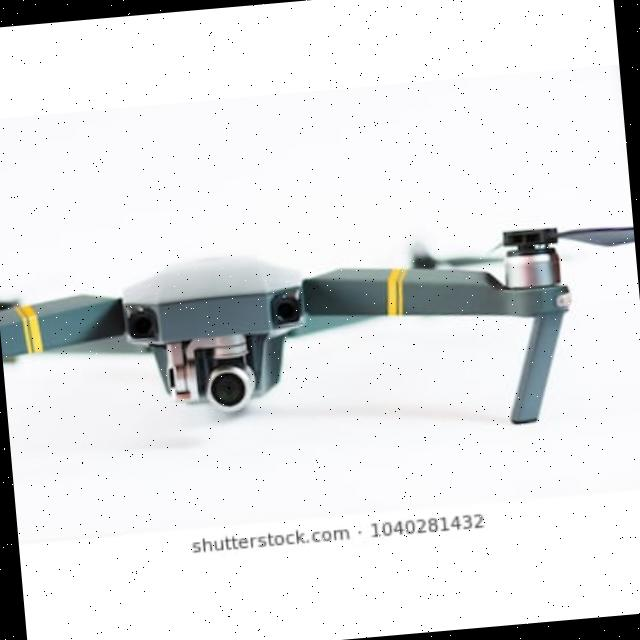Drones: (0, 172, 640, 487)
